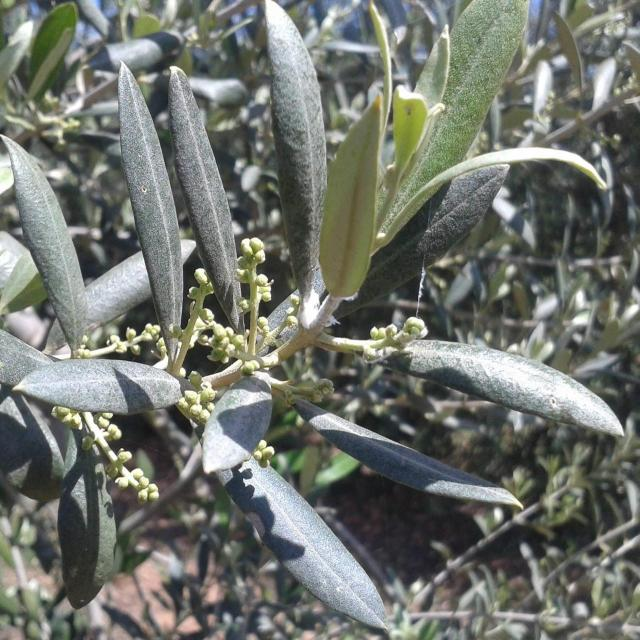Healthy: (292, 400, 522, 509), (168, 66, 244, 332), (118, 63, 184, 359), (0, 135, 87, 356)
Psyllid: (360, 317, 428, 363), (296, 286, 357, 336)
